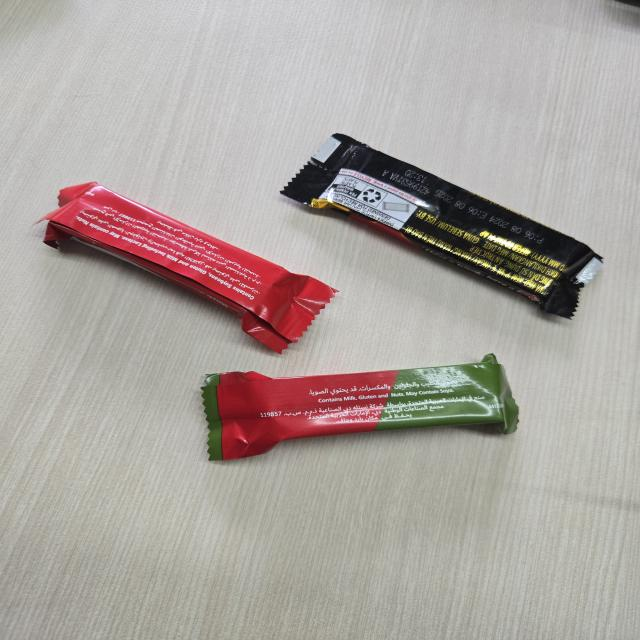chocolate-bar: (276, 131, 608, 323), (41, 178, 342, 355), (201, 352, 524, 466)
